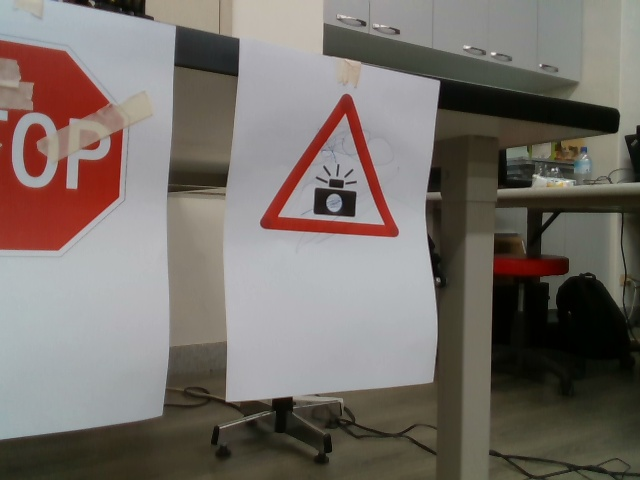camera: (256, 91, 401, 244)
stop: (1, 25, 128, 260)
